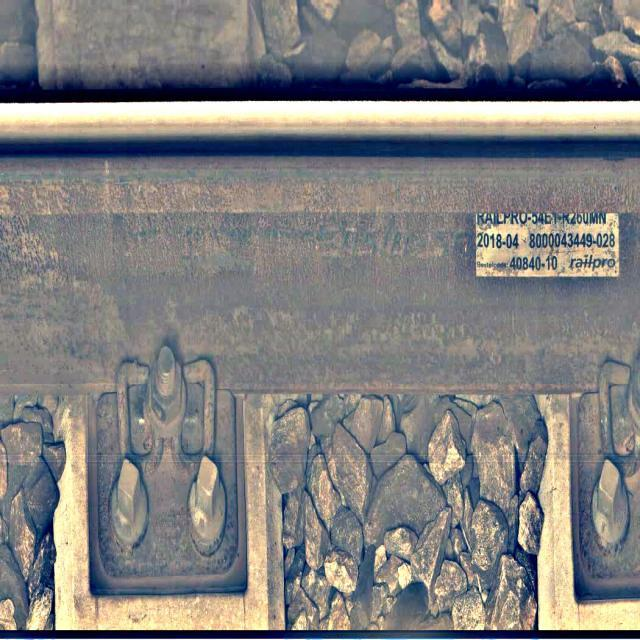Good Fasteners: (88, 345, 246, 594), (571, 355, 639, 598)
